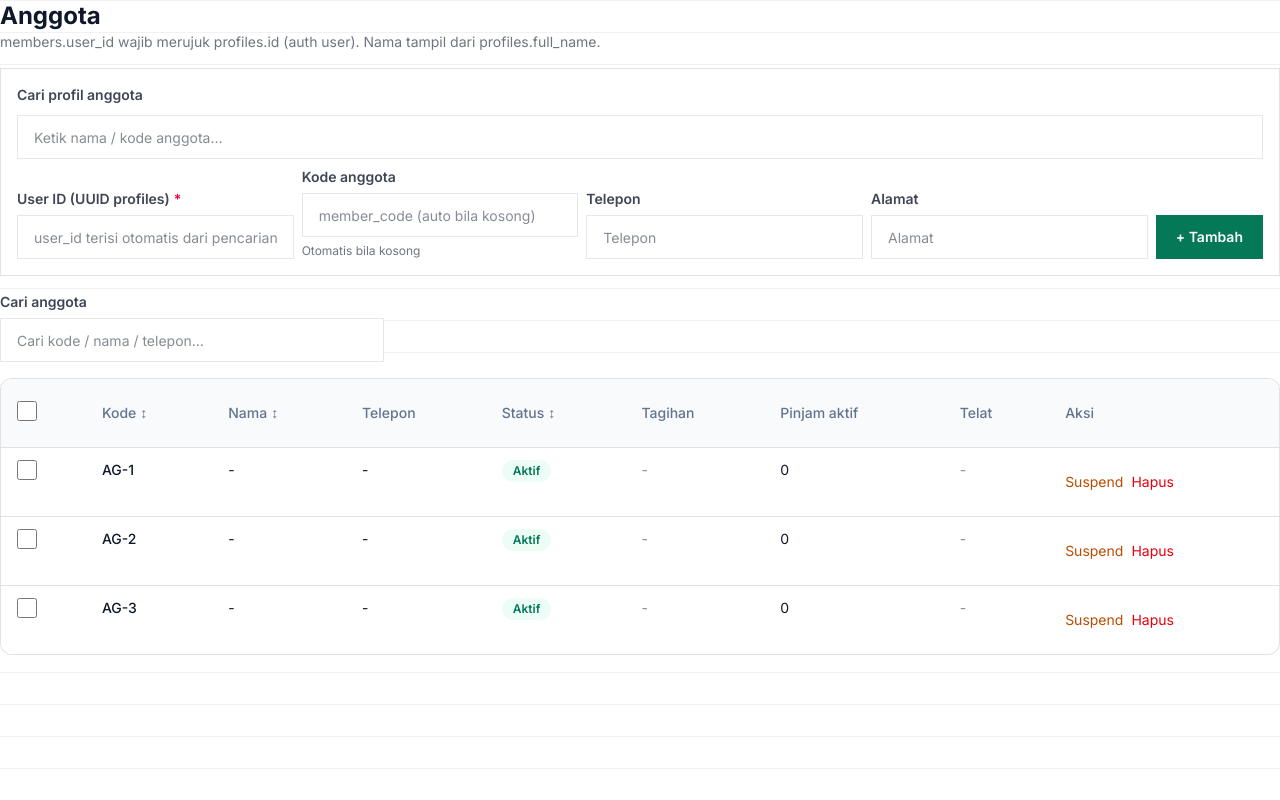
Scenario: #59 bulk delete anggota › review#4: ringkasan akurat (dihapus+dilewati+gagal+id) & seleksi dipertahankan
This screenshot has width=1280, height=800.
Expected: the number of buttons named "hapus anggota" is 3, [1131,460,1174,504]; [1131,529,1174,573]; [1131,598,1174,642]
Click the checkbox named "Pilih semua baris" at (27, 410), box [17,400,37,420]
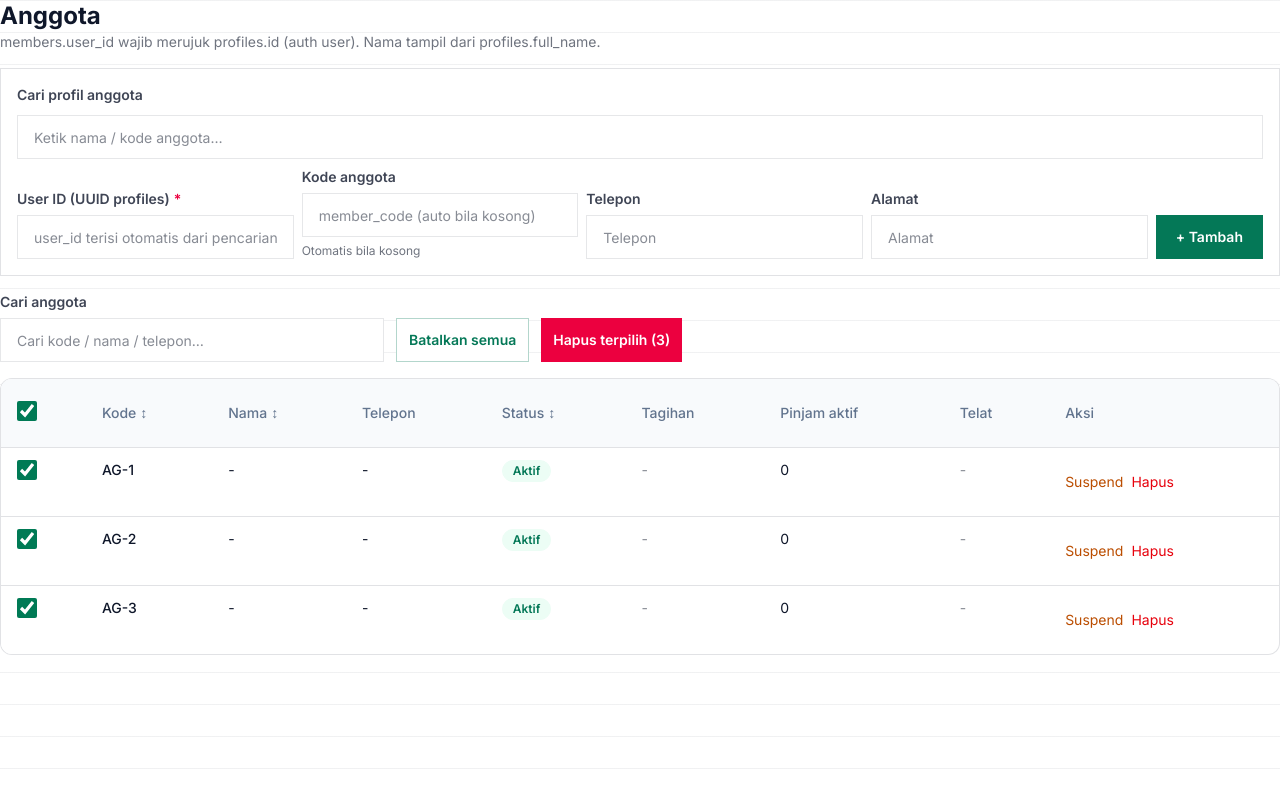
Click the button "Hapus terpilih (3)" at (612, 340), box [541,318,682,362]
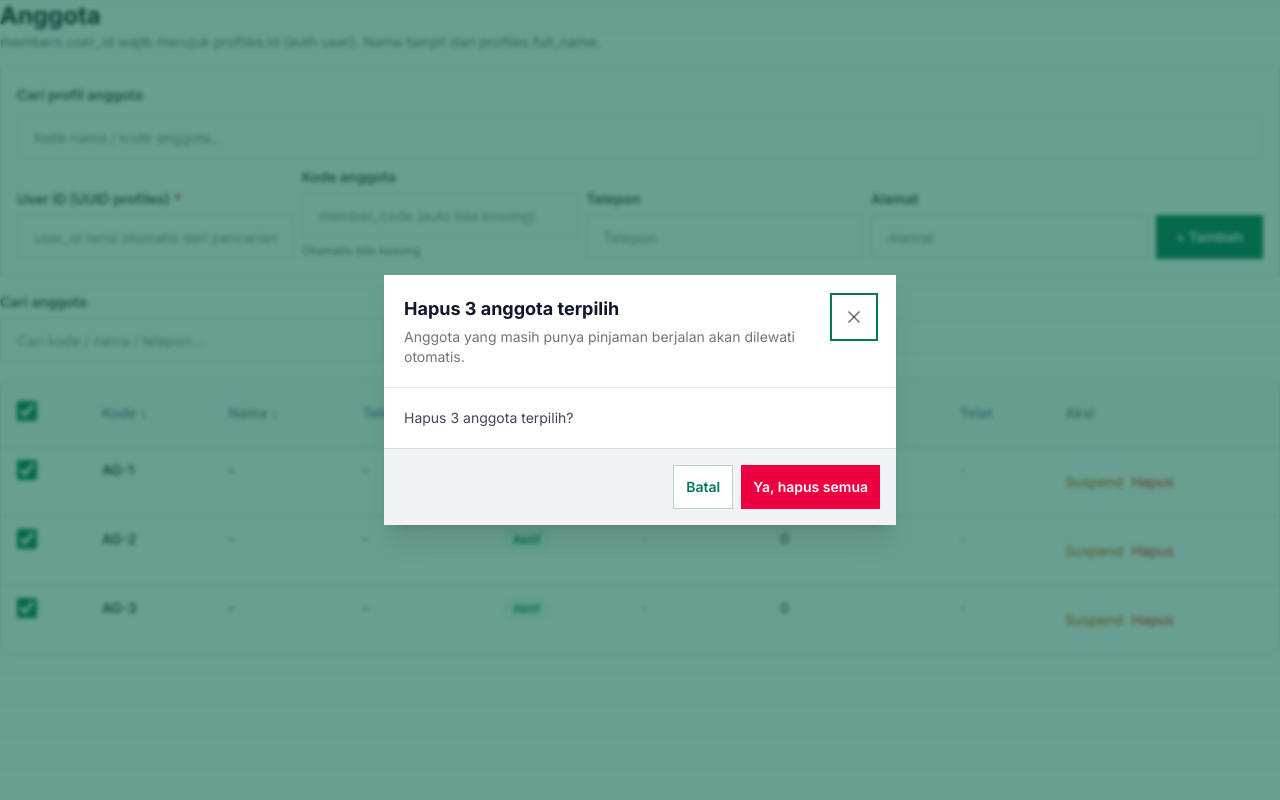
Click the button "Ya, hapus semua" at (811, 487), box [741,465,880,509]
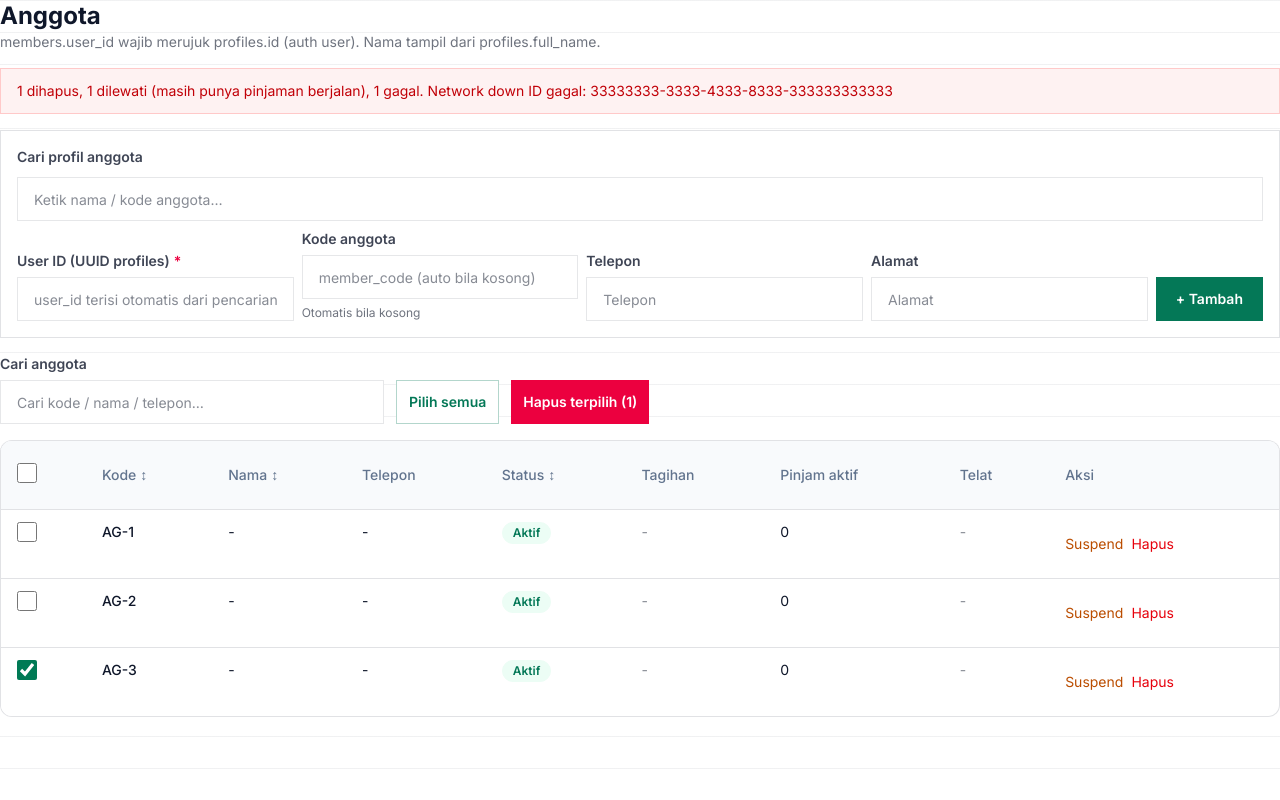
Expected: the message shows "1 dihapus", [17,82,893,99]
Expected: the message shows "1 dilewati", [17,82,893,99]
Expected: the message shows "1 gagal", [17,82,893,99]
